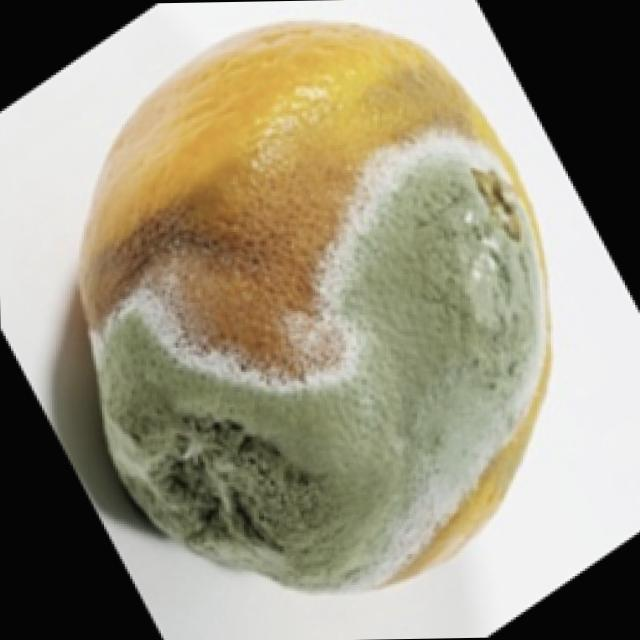Rotten_Orange: (2, 1, 614, 640)
